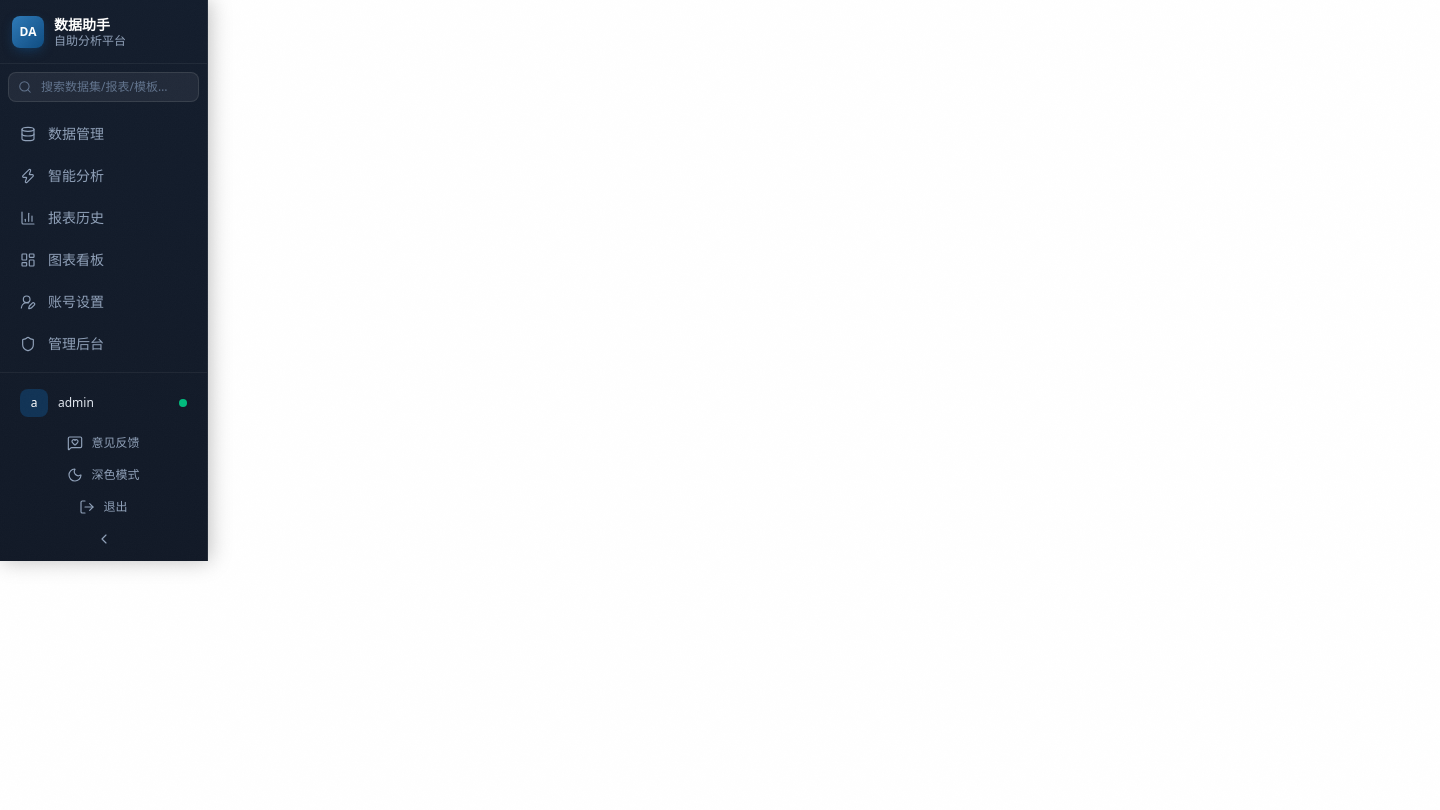
Test case: Sidebar 侧边栏 › 点击「意见反馈」打开反馈弹窗
Click the button "意见反馈". click: (104, 443)
box: [8,429,199,457]
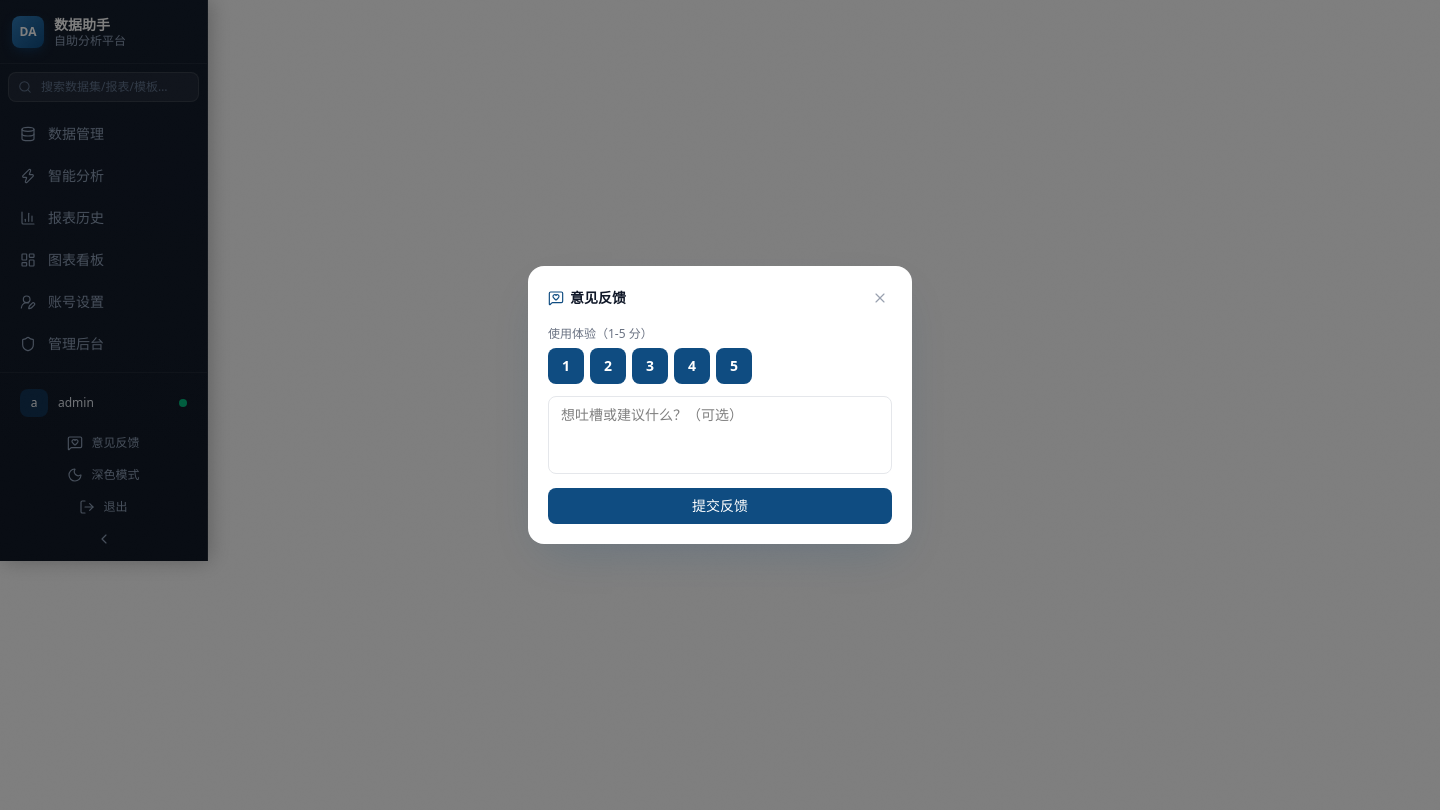
expect the text "使用体验（1-5 分）" is shown: met, box [548,325,653,342]
